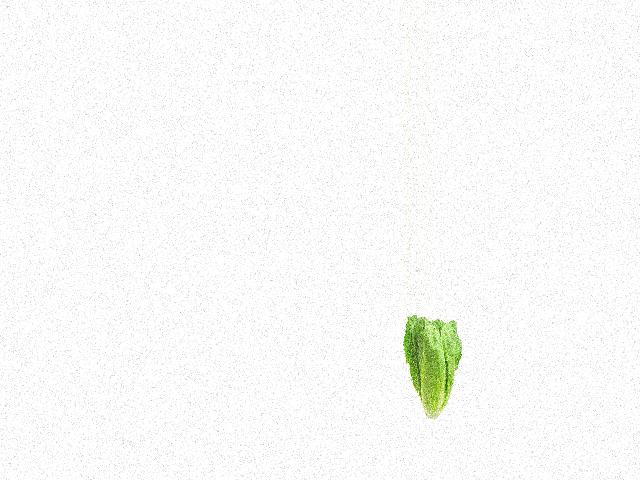lettuce: (400, 315, 469, 418)
